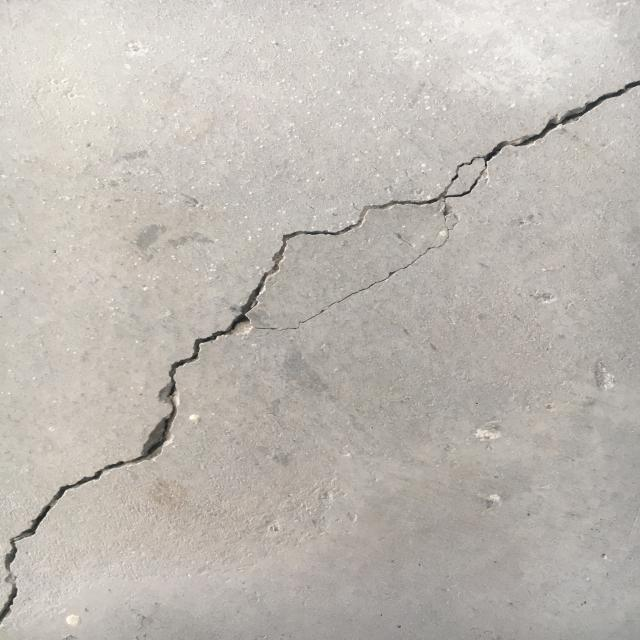Rachadura: (0, 73, 640, 635)
